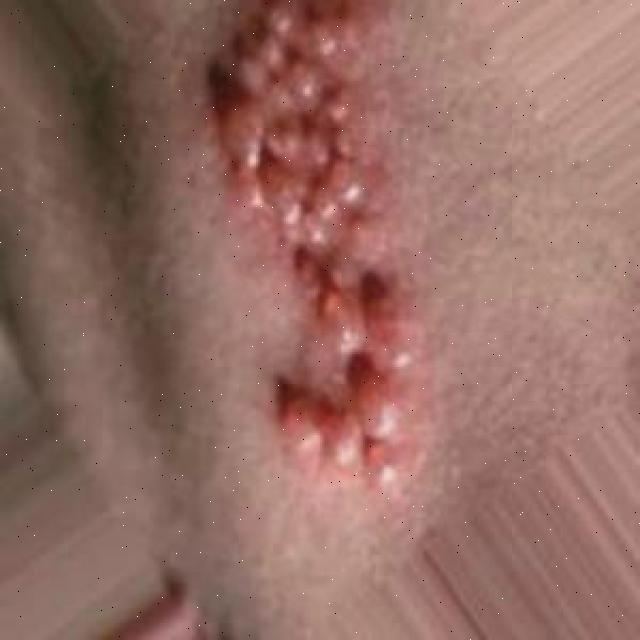Shingles: (205, 0, 420, 501)
